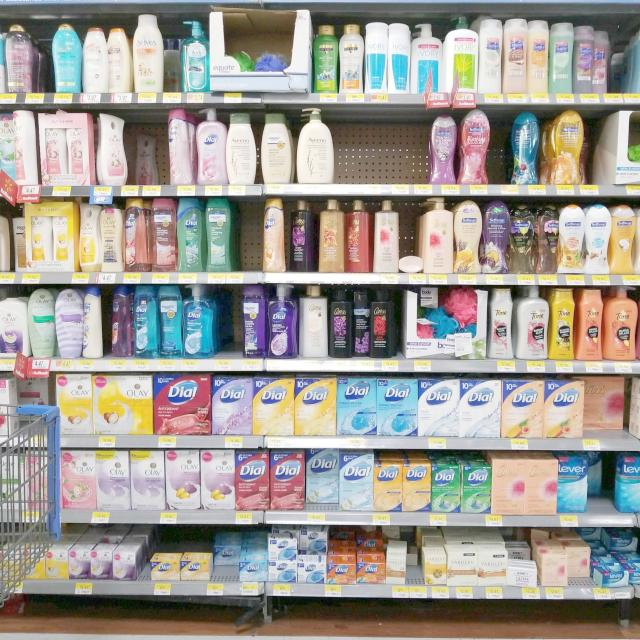empty_space: (350, 115, 418, 183), (236, 199, 257, 262), (491, 107, 507, 178), (215, 290, 233, 348), (591, 469, 611, 511)
